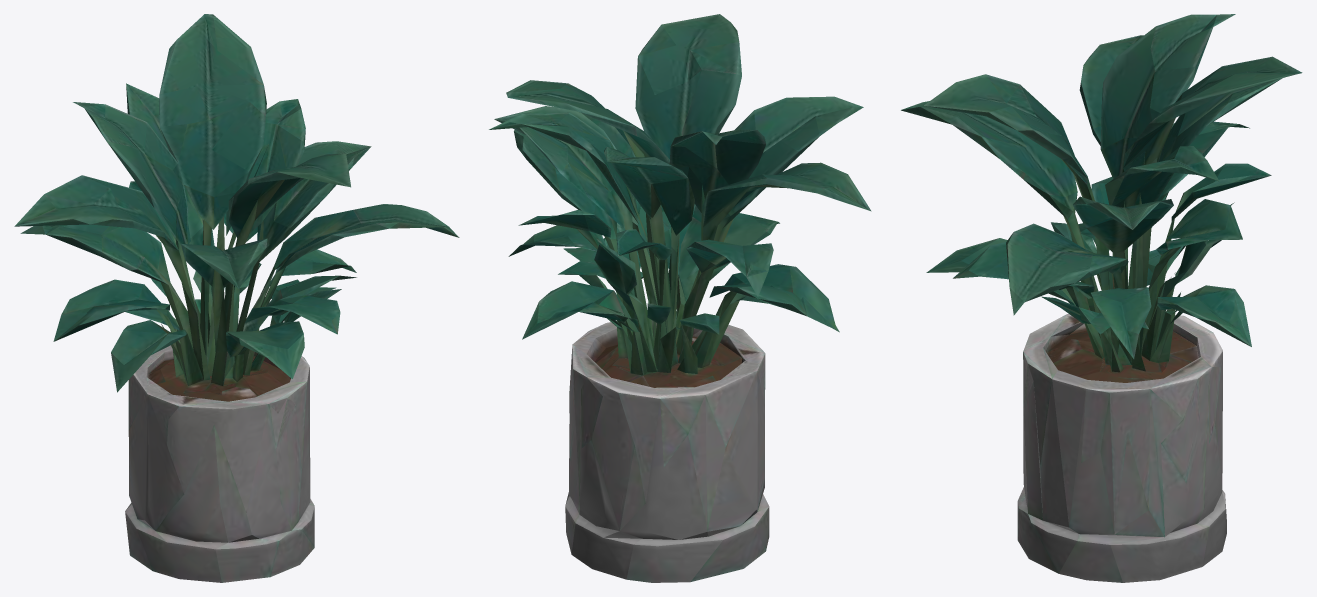
File: planta_vaso.glb
3 renders of one model, left to right at view 1: azimuth 30°, elevation 25°; view 2: azimuth 150°, elevation 25°; view 3: azimuth 270°, elevation 25°, orthographic. The views are drawn at different scales.
Visible parts, largest first — view 1: Mesh_0; view 2: Mesh_0; view 3: Mesh_0.
Boxes of the visible parts, bbox=[...] form: Mesh_0: bbox=[14, 14, 459, 582]; Mesh_0: bbox=[489, 14, 871, 582]; Mesh_0: bbox=[901, 14, 1302, 582].
Bounding box in the file's own units: 1.16 × 1.3 × 0.9441.
Materials: 1 (1 with a texture image).
